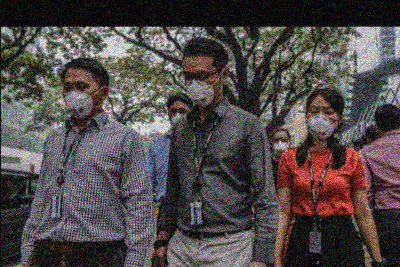with_mask: (179, 67, 218, 109), (59, 79, 98, 120), (303, 104, 335, 140), (167, 105, 188, 126), (270, 135, 289, 156)
